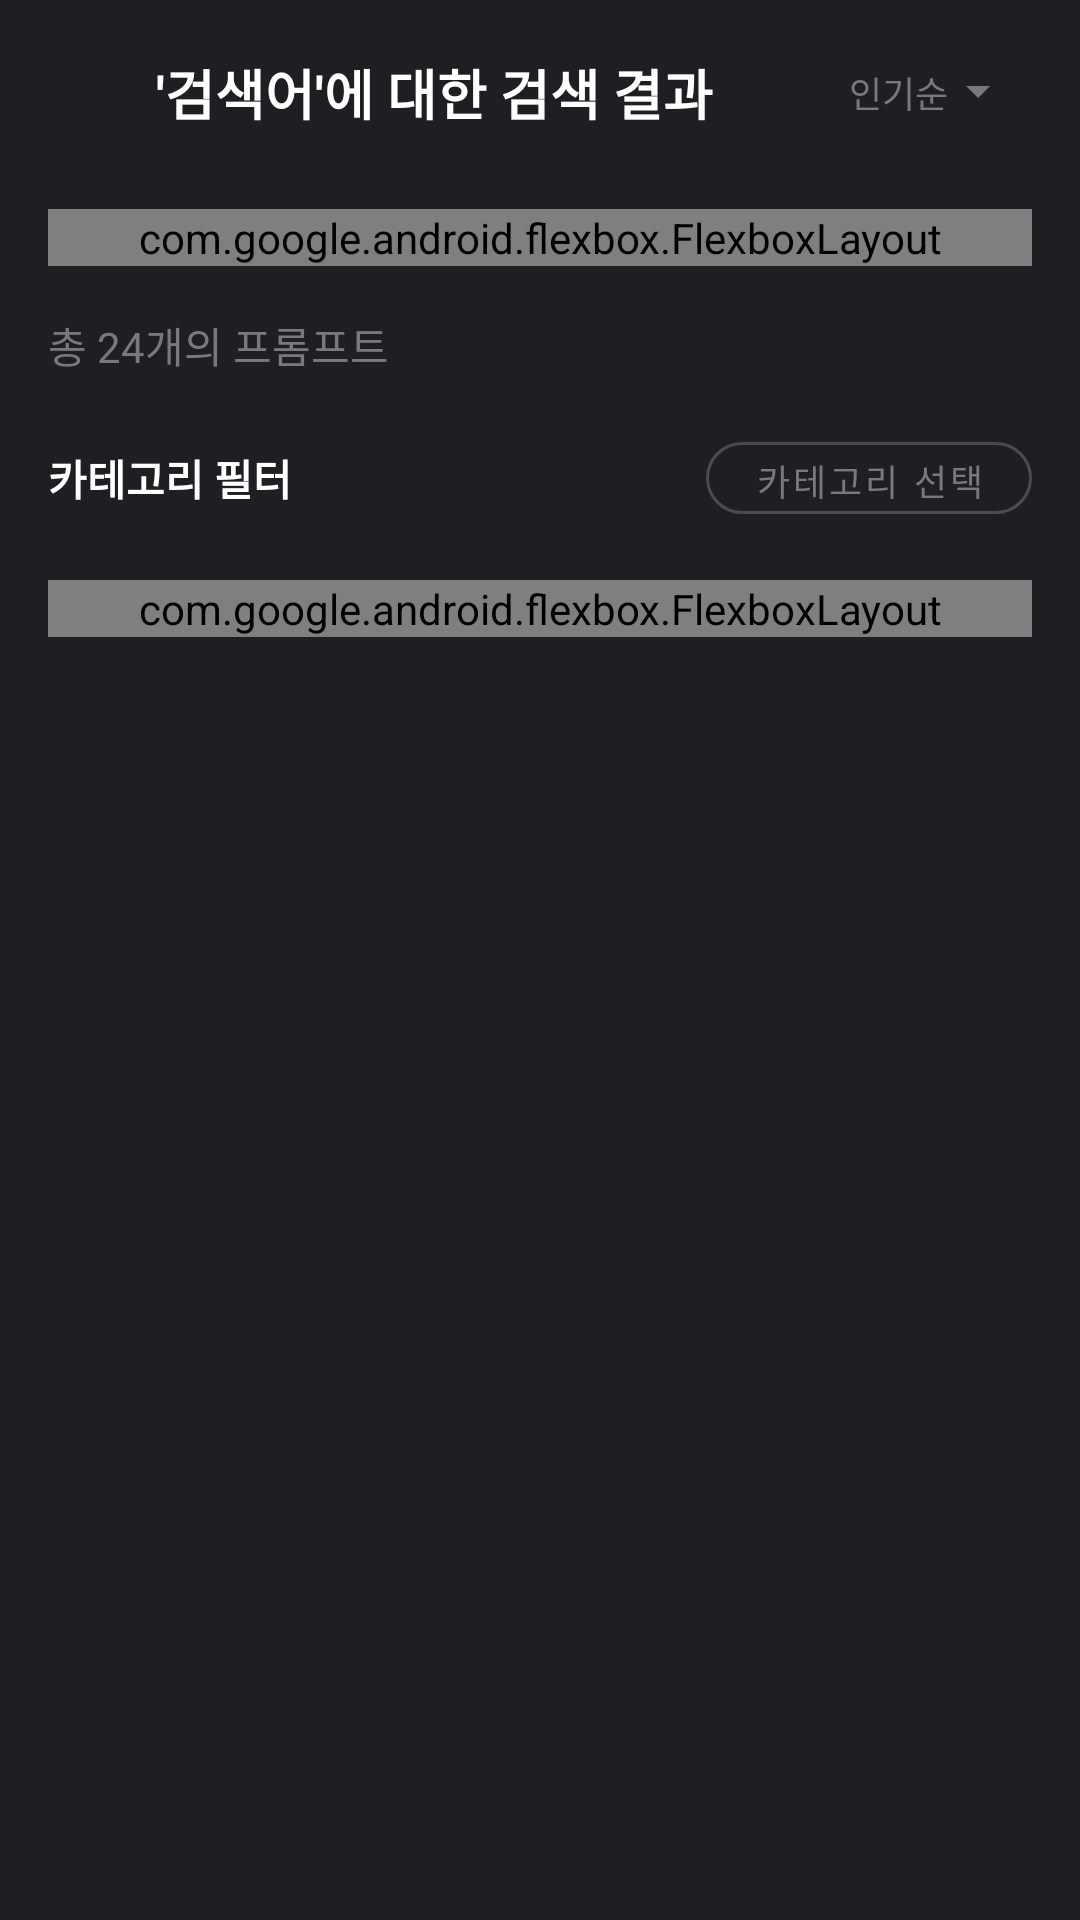

Locate icon controls on the screen. Image size 1080*1920, boxes as (x1, y1, x2, y2).
arrow drop down: (966, 86, 990, 98)
